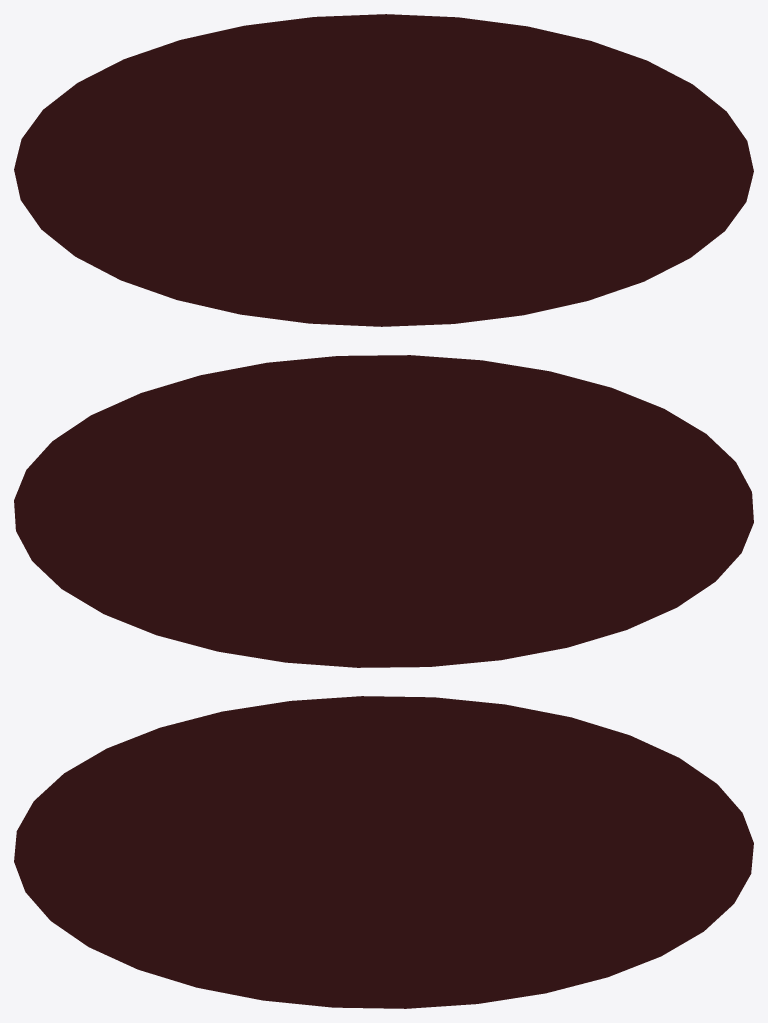
The model's file is teaFluid.fbx.
3 views of the same model, one above another, from view 1: azimuth 30°, elevation 25°; view 2: azimuth 150°, elevation 25°; view 3: azimuth 270°, elevation 25° (orthographic).
Parts seen in each view (by area): view 1: Tea_fluid; view 2: Tea_fluid; view 3: Tea_fluid.
Boxes of the visible parts, box(x1,y1,x2,y2) form: Tea_fluid: box(14, 14, 753, 326); Tea_fluid: box(14, 355, 753, 667); Tea_fluid: box(14, 696, 753, 1008).
Bounding box in the file's own units: 0.1176 × 9.39e-09 × 0.1176.
